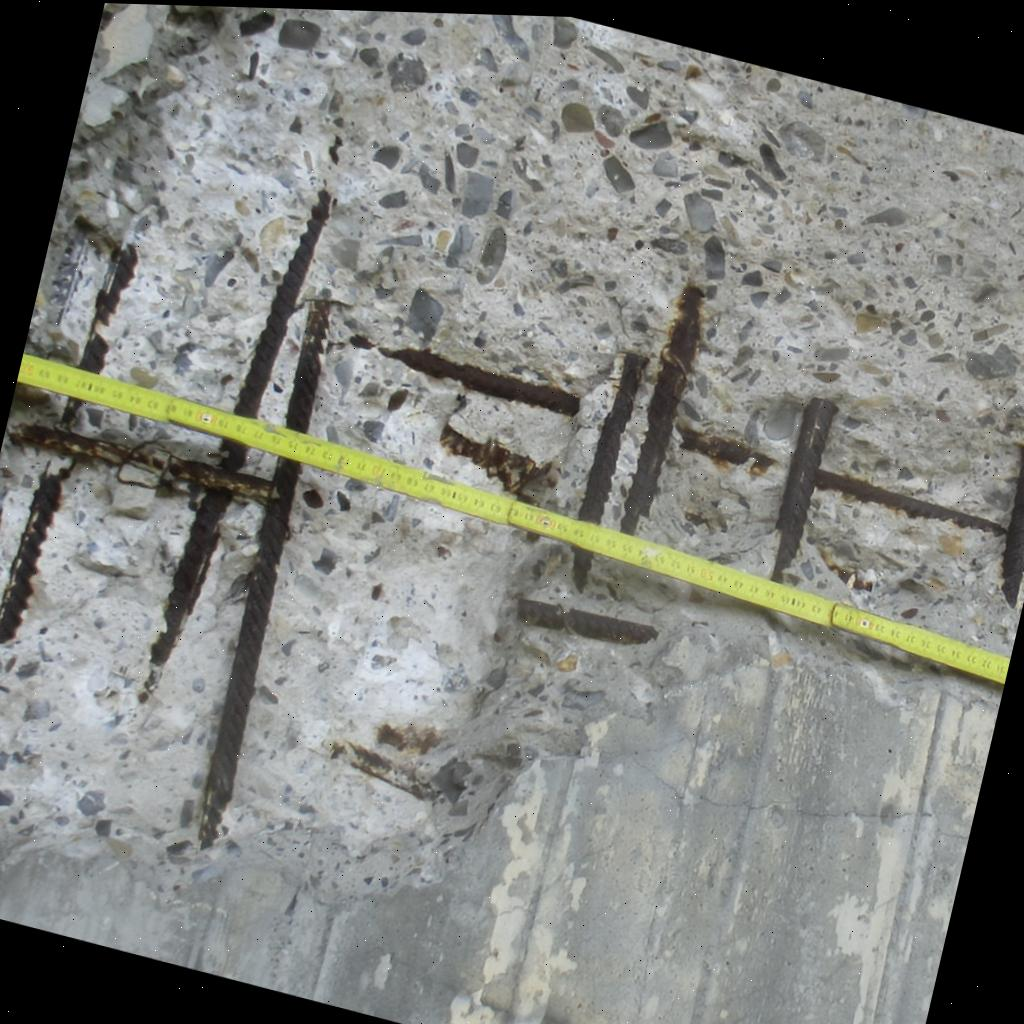exposed_rebar: (11, 399, 299, 843), (772, 398, 1024, 605), (236, 191, 332, 414), (620, 285, 704, 533), (380, 348, 580, 416), (578, 352, 649, 523), (0, 467, 69, 642), (152, 507, 222, 664), (79, 246, 138, 371), (441, 427, 544, 497), (285, 299, 332, 432), (519, 599, 652, 643), (680, 426, 773, 473), (572, 550, 592, 587)
spalling: (25, 5, 1024, 654), (0, 386, 934, 887)
